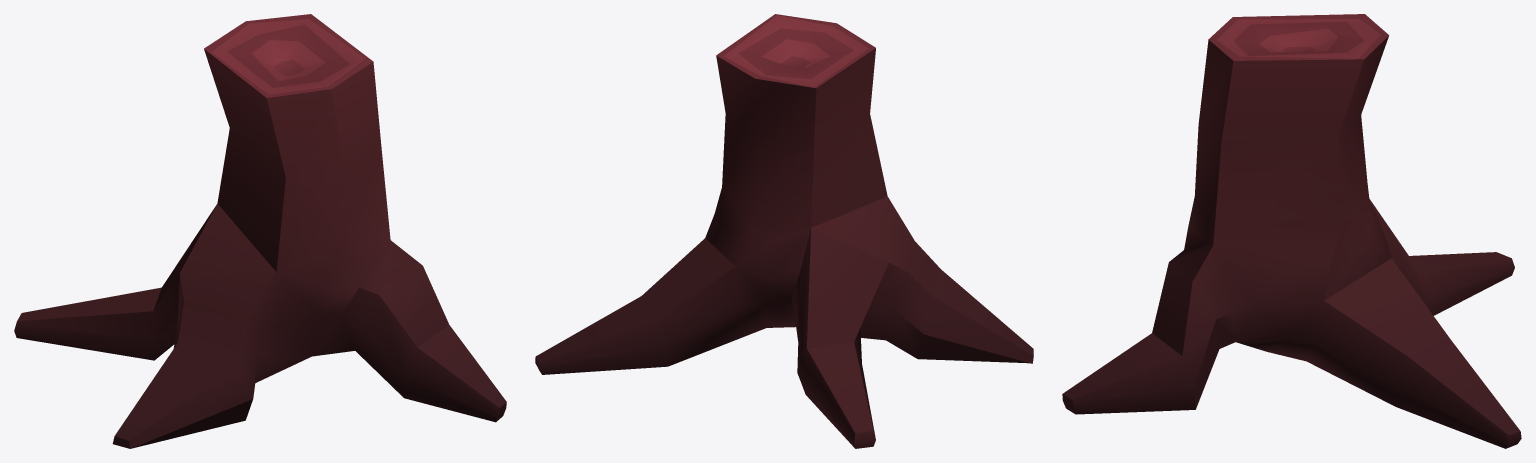
Rendered from Trunk_A_1.fbx.
3 views of the same model, side by side, from view 1: azimuth 30°, elevation 25°; view 2: azimuth 150°, elevation 25°; view 3: azimuth 270°, elevation 25° (orthographic). The views are drawn at different scales.
Visible parts, largest first — view 1: Trunk_A_1; view 2: Trunk_A_1; view 3: Trunk_A_1.
Part boxes in pixels (box(x1,y1,x2,y2)): Trunk_A_1: box(14, 14, 506, 448); Trunk_A_1: box(535, 14, 1033, 448); Trunk_A_1: box(1062, 14, 1521, 448).
Bounding box in the file's own units: 64.31 × 49.24 × 62.47.
